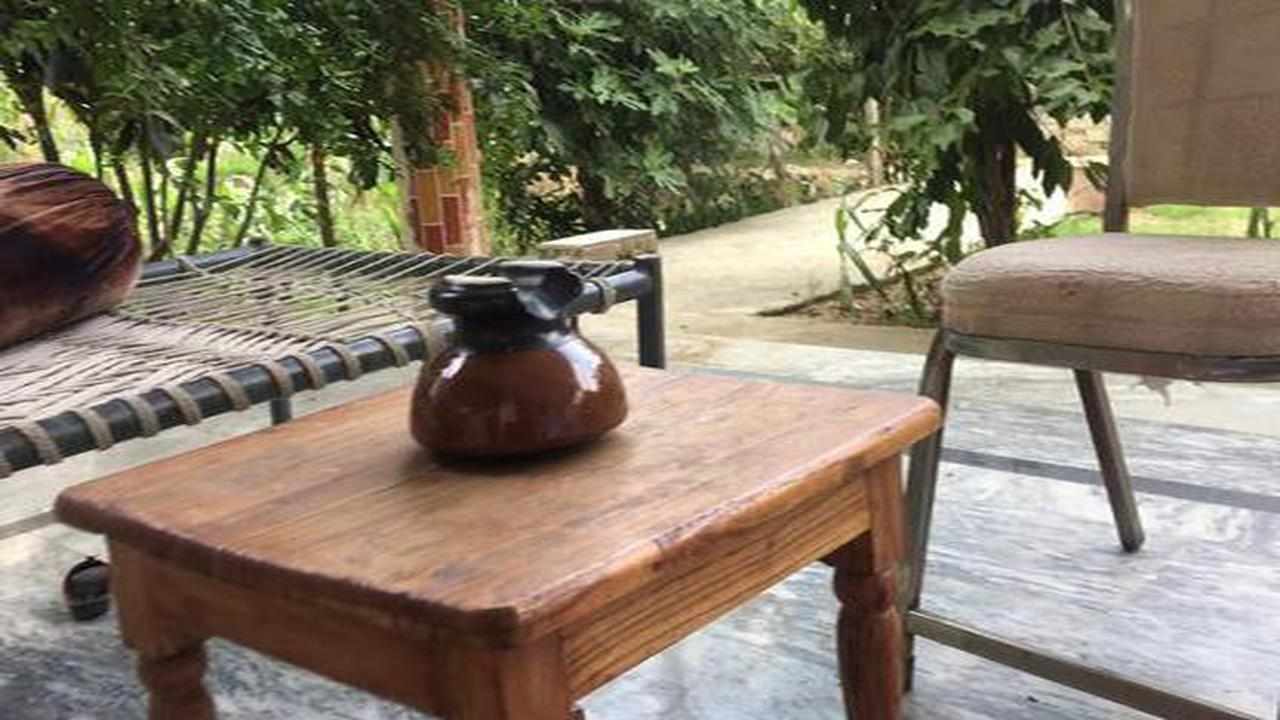insulator_pin: (400, 243, 631, 471)
